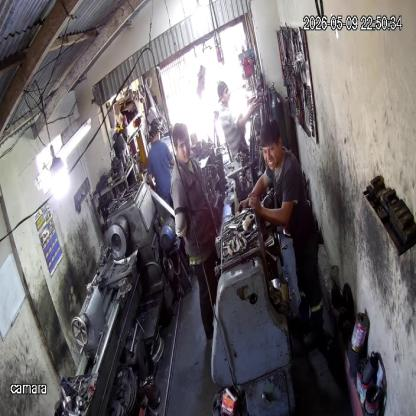sin_lentes: (262, 142, 277, 158), (176, 139, 190, 153)
